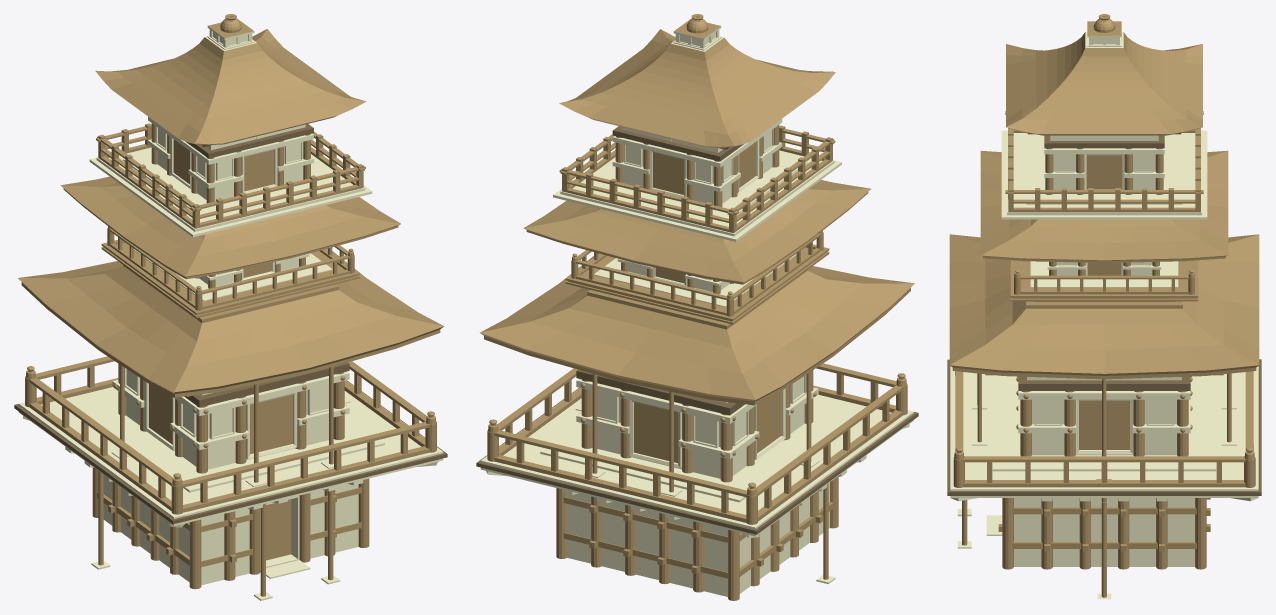
Rendered from Japanese_Temple.fbx.
3 renders of one model, left to right at view 1: azimuth 30°, elevation 25°; view 2: azimuth 150°, elevation 25°; view 3: azimuth 270°, elevation 25°, orthographic. The views are drawn at different scales.
Visible parts, largest first — view 1: Japanese Temple; view 2: Japanese Temple; view 3: Japanese Temple.
Boxes of the visible parts, box(x1,y1,x2,y2) form: Japanese Temple: box(14, 14, 447, 600); Japanese Temple: box(476, 14, 918, 600); Japanese Temple: box(947, 14, 1261, 599).
Size of the model in its own units: 912 by 1668 by 912.
